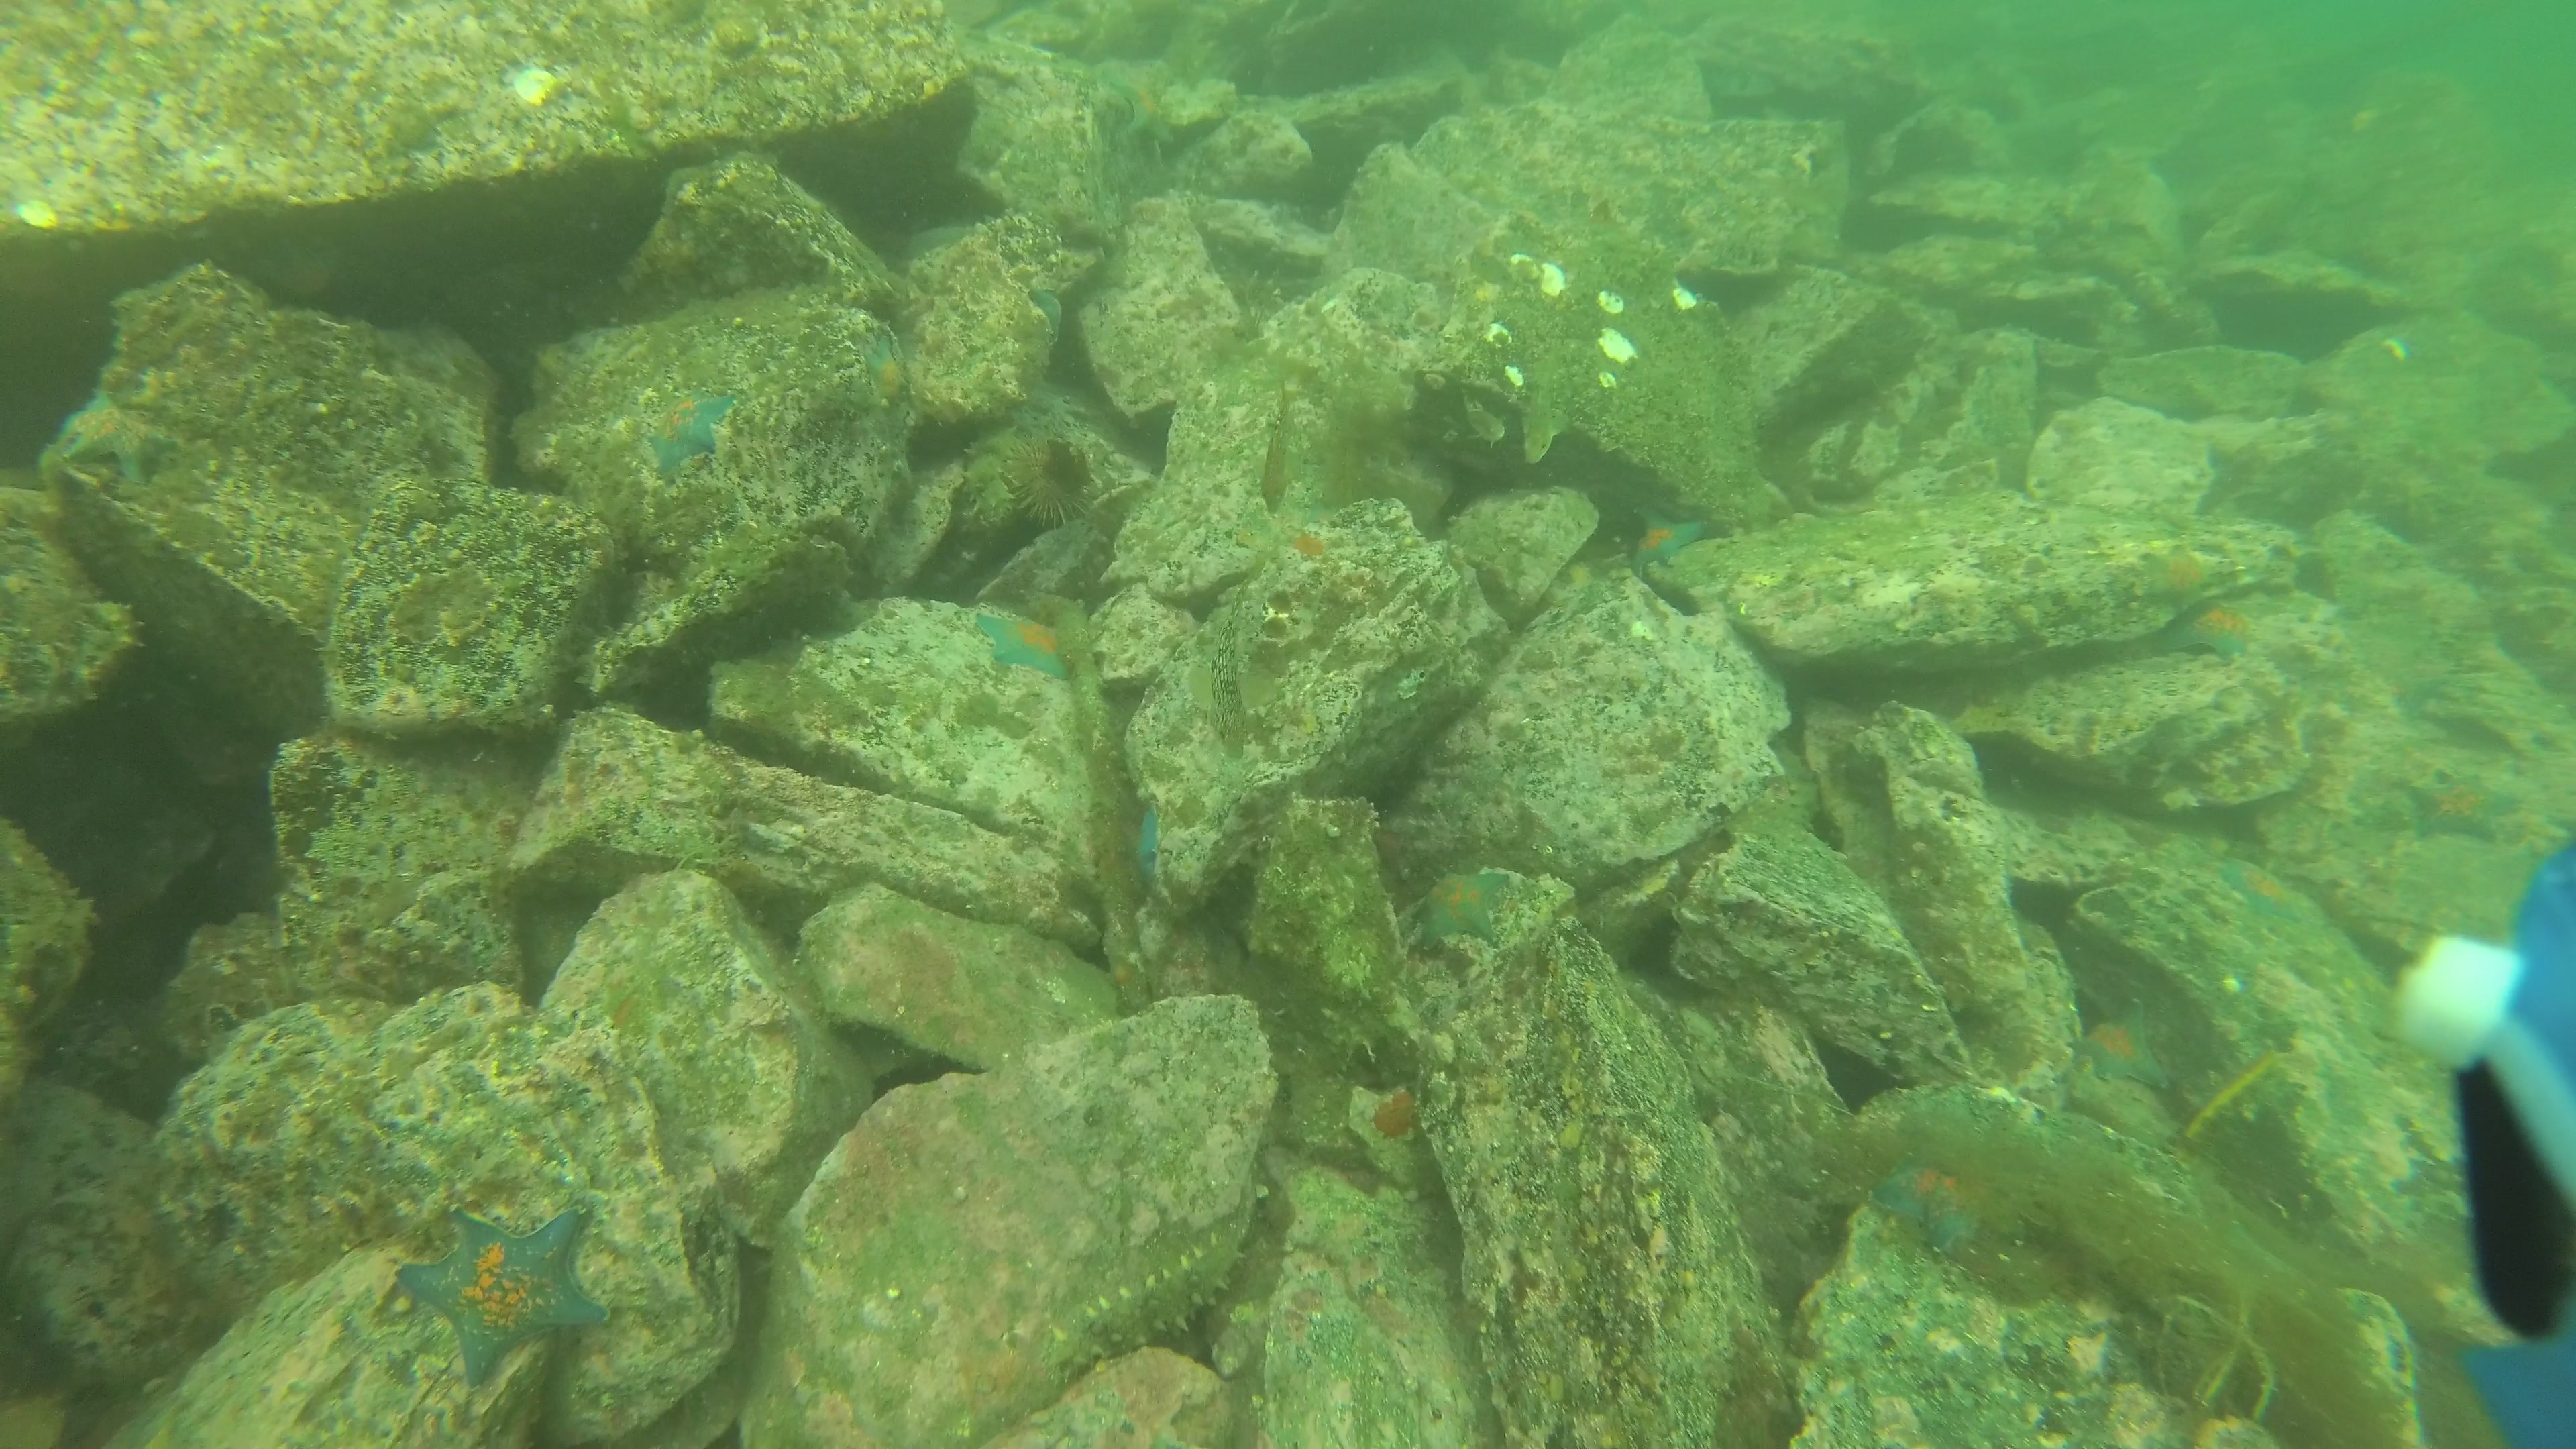echinus: (1000, 425, 1106, 536)
holothurian: (1039, 1221, 1253, 1376)
starfish: (391, 1200, 619, 1396), (1870, 1157, 1990, 1256), (57, 391, 175, 490), (2404, 766, 2530, 849), (2072, 996, 2171, 1097), (970, 600, 1077, 686), (642, 391, 740, 483), (1410, 863, 1513, 950), (2212, 851, 2309, 931), (2144, 605, 2265, 669), (1626, 499, 1714, 582), (2134, 543, 2222, 612), (862, 333, 911, 416), (1127, 800, 1162, 895)
